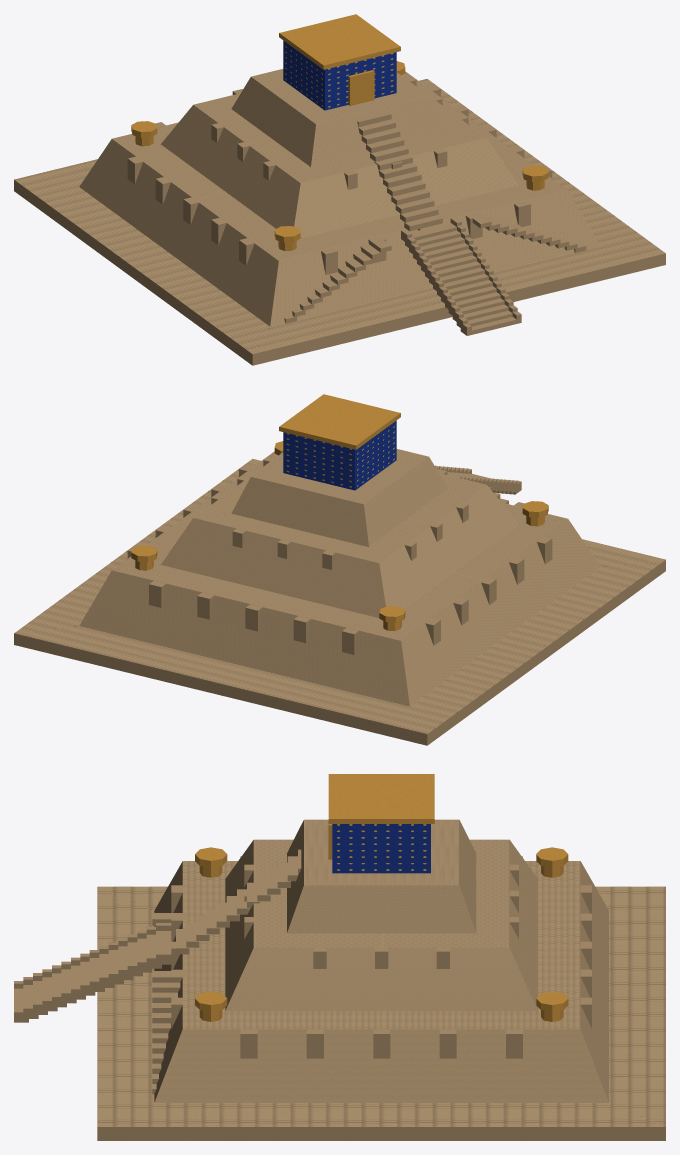
The model's file is ziggurat_monument.obj.
3 views of the same model, one above another, from view 1: azimuth 30°, elevation 25°; view 2: azimuth 150°, elevation 25°; view 3: azimuth 270°, elevation 25° (orthographic). The views are drawn at different scales.
Size of the model in its own units: 30 by 13.05 by 34.4.
3 materials, 3 textured.
